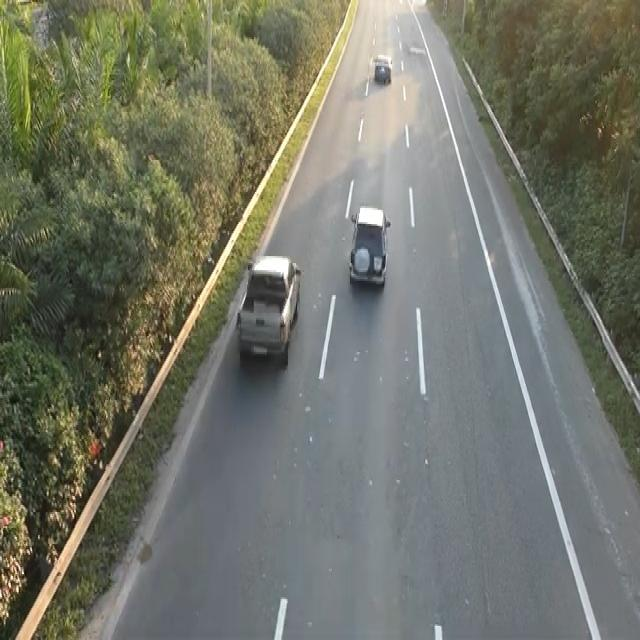car: (234, 251, 304, 373), (346, 203, 391, 288)
